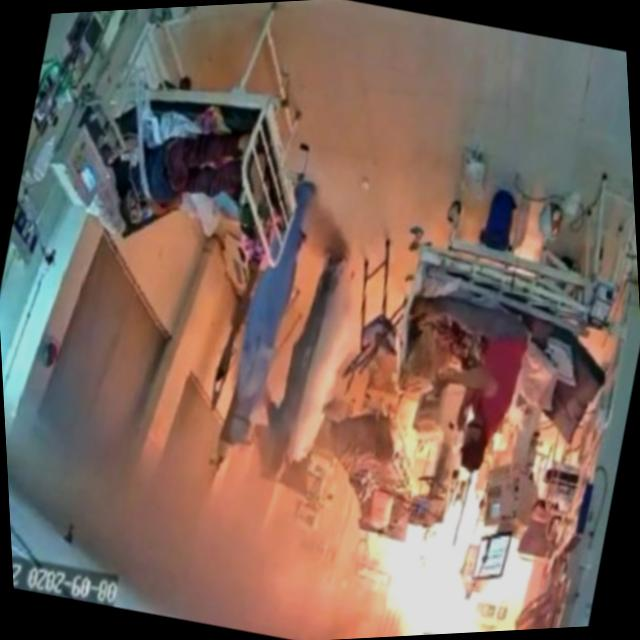fire: (309, 446, 566, 640)
